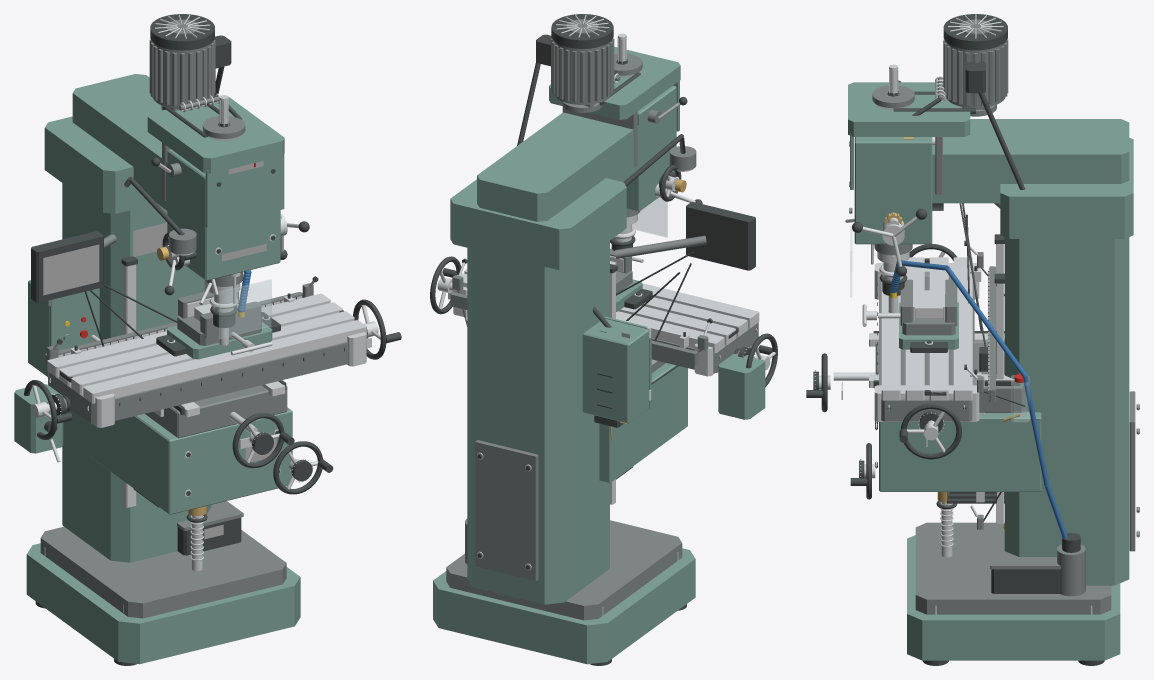
Rendered from fresadora-06.glb.
3 views of the same model, side by side, from view 1: azimuth 30°, elevation 25°; view 2: azimuth 150°, elevation 25°; view 3: azimuth 270°, elevation 25° (orthographic). The views are drawn at different scales.
Visible parts, largest first — view 1: coluna__4, cabecote__1, base__4, joelho__1, refrigeracao__7, mesa__2, mesa__3, tampa_transmissao__1, tampa_cabecote_frontal__1, motor__2, carro_y__3, protetor_cavacos__2 (+26 smaller); view 2: coluna__4, cabecote__1, base__4, porta_coluna__2, refrigeracao__7, painel_eletrico__14, joelho__1, mesa__2, dro__1, motor__2, tampa_transmissao__1, fuso_x__4 (+12 smaller); view 3: coluna__4, cabecote__1, base__4, joelho__1, refrigeracao__7, mesa__2, tampa_transmissao__1, motor__2, mesa__3, fuso_x__1, refrigeracao__4, refrigeracao__5 (+21 smaller).
Boxes of the visible parts, bbox=[...] form: coluna__4: bbox=[44, 116, 211, 562]; cabecote__1: bbox=[72, 74, 280, 280]; base__4: bbox=[26, 543, 300, 664]; joelho__1: bbox=[88, 407, 292, 514]; refrigeracao__7: bbox=[40, 526, 286, 618]; mesa__2: bbox=[47, 293, 366, 403]; mesa__3: bbox=[48, 342, 348, 424]; tampa_transmissao__1: bbox=[147, 97, 284, 173]; tampa_cabecote_frontal__1: bbox=[205, 152, 284, 227]; motor__2: bbox=[149, 39, 215, 110]; carro_y__3: bbox=[145, 385, 287, 438]; protetor_cavacos__2: bbox=[219, 279, 271, 338]; coluna__4: bbox=[450, 178, 626, 604]; cabecote__1: bbox=[477, 85, 676, 221]; base__4: bbox=[433, 548, 695, 664]; porta_coluna__2: bbox=[475, 440, 538, 580]; refrigeracao__7: bbox=[446, 518, 682, 620]; painel_eletrico__14: bbox=[582, 318, 649, 423]; joelho__1: bbox=[599, 363, 687, 483]; mesa__2: bbox=[461, 269, 759, 353]; dro__1: bbox=[686, 202, 756, 331]; motor__2: bbox=[551, 38, 614, 108]; tampa_transmissao__1: bbox=[549, 46, 680, 119]; fuso_x__4: bbox=[718, 353, 765, 419]; coluna__4: bbox=[1000, 137, 1133, 585]; cabecote__1: bbox=[854, 119, 1129, 244]; base__4: bbox=[907, 535, 1120, 660]; joelho__1: bbox=[879, 412, 1041, 491]; refrigeracao__7: bbox=[915, 522, 1111, 614]; mesa__2: bbox=[881, 257, 972, 400]; tampa_transmissao__1: bbox=[848, 82, 970, 136]; motor__2: bbox=[943, 39, 1008, 109]; mesa__3: bbox=[879, 277, 974, 421]; fuso_x__1: bbox=[899, 203, 1025, 459]; refrigeracao__4: bbox=[890, 259, 1067, 538]; refrigeracao__5: bbox=[991, 428, 1139, 593].
Bounding box in the file's own units: 1.82 × 2.97 × 1.5.
